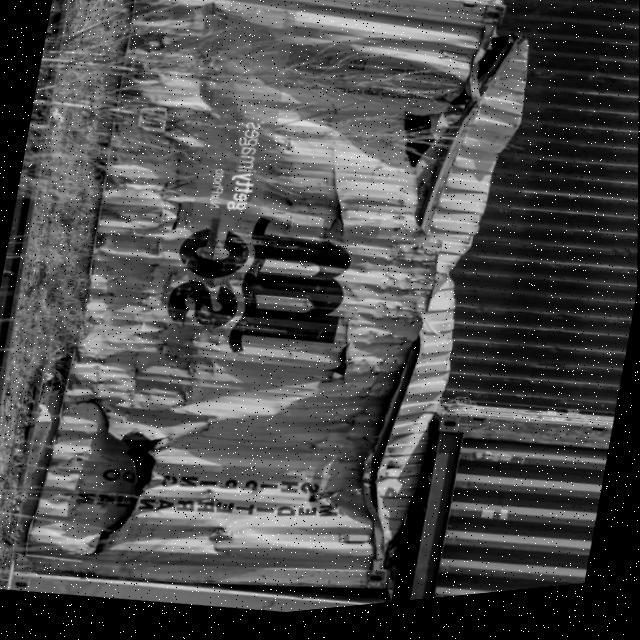dent: (1, 1, 547, 640)
